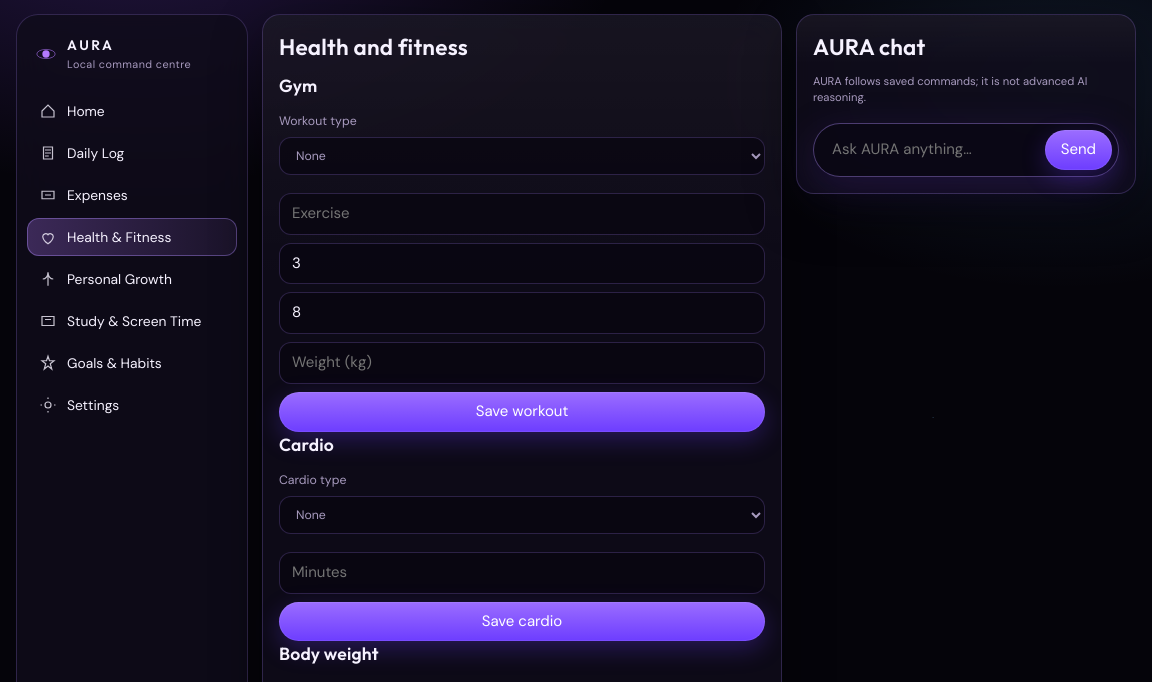
None on workout and study does not create records
The width and height of the screenshot is (1152, 682).
expect the dropdown labelled "Workout type" shows "None": met, box [279,137,765,175]
Step 1. Click the button "Save workout" → (522, 412), box [279,392,765,432]
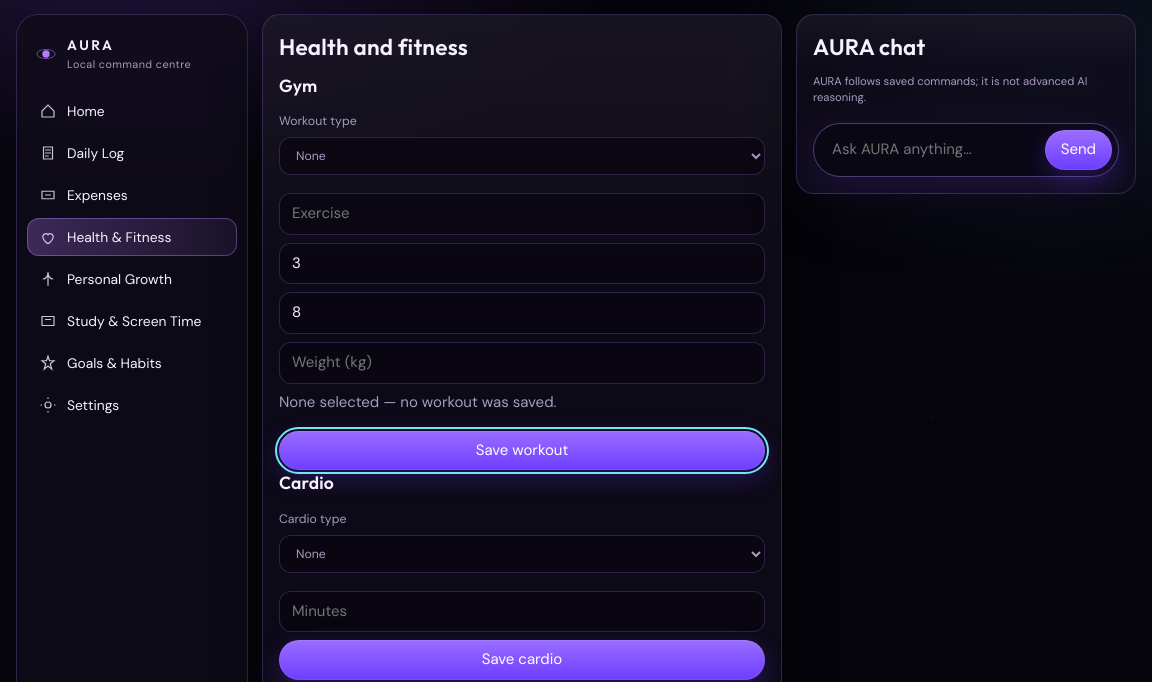
expect the text "None selected — no workout was saved." is shown: met, box [279,392,556,412]
